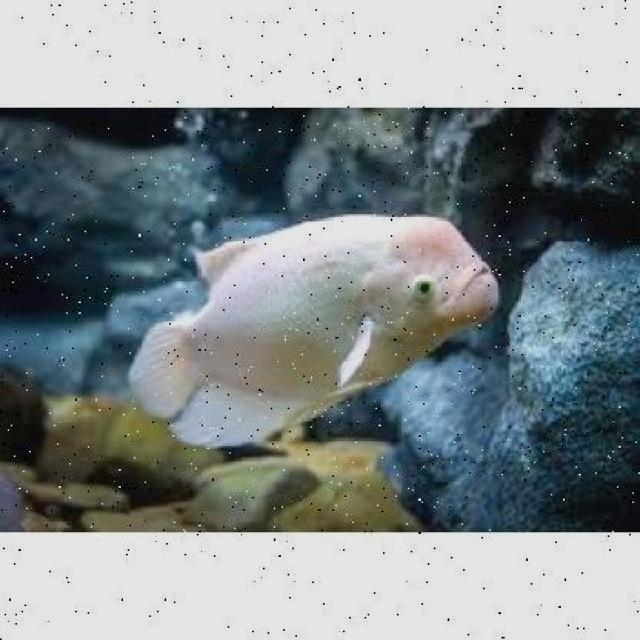gurame: (136, 213, 501, 427)
